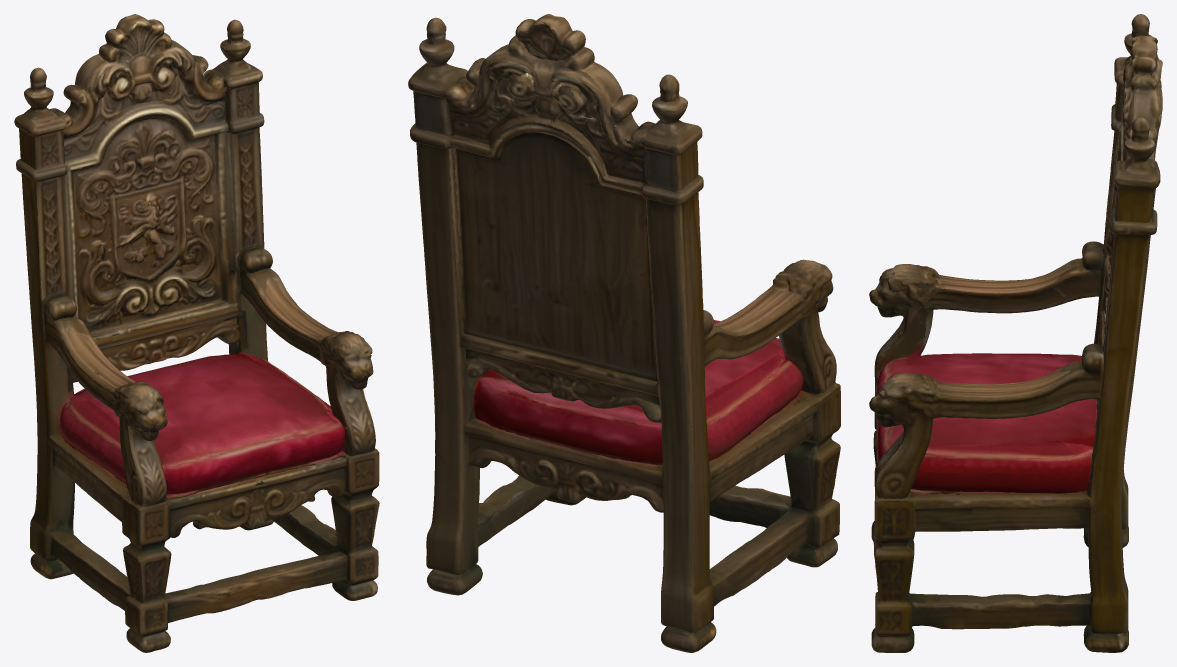
Rendered from throne.glb.
3 views of the same model, side by side, from view 1: azimuth 30°, elevation 25°; view 2: azimuth 150°, elevation 25°; view 3: azimuth 270°, elevation 25° (orthographic). The views are drawn at different scales.
Visible parts, largest first — view 1: geometry_0; view 2: geometry_0; view 3: geometry_0.
Boxes of the visible parts, x1,y1,x2,y2 form: geometry_0: (14, 14, 379, 652); geometry_0: (408, 14, 840, 652); geometry_0: (869, 14, 1162, 652).
Bounding box in the file's own units: 0.5875 × 1.2 × 0.5738.
Materials: 1 (1 with a texture image).
